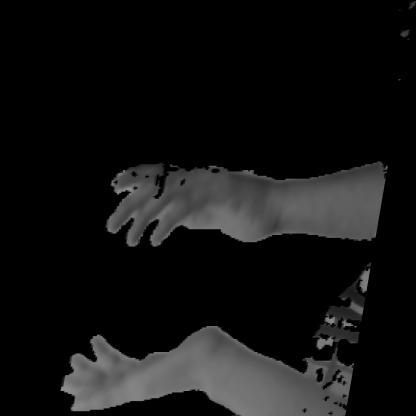clap: (59, 138, 320, 415)
